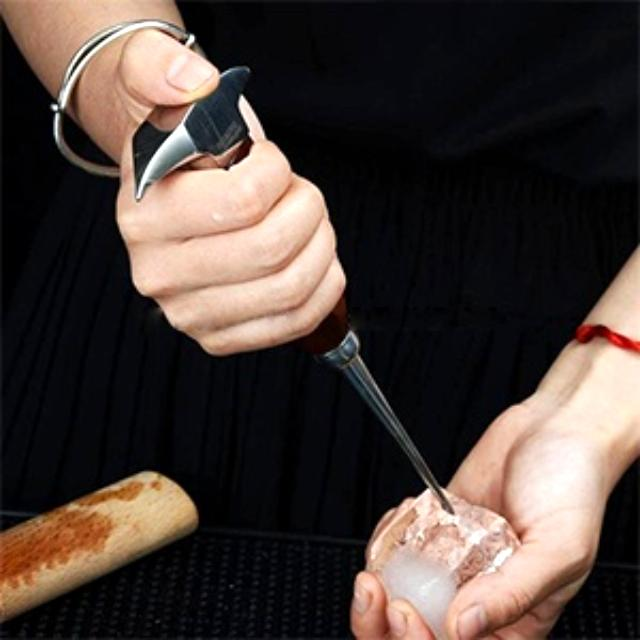ice pick: (132, 64, 456, 518)
